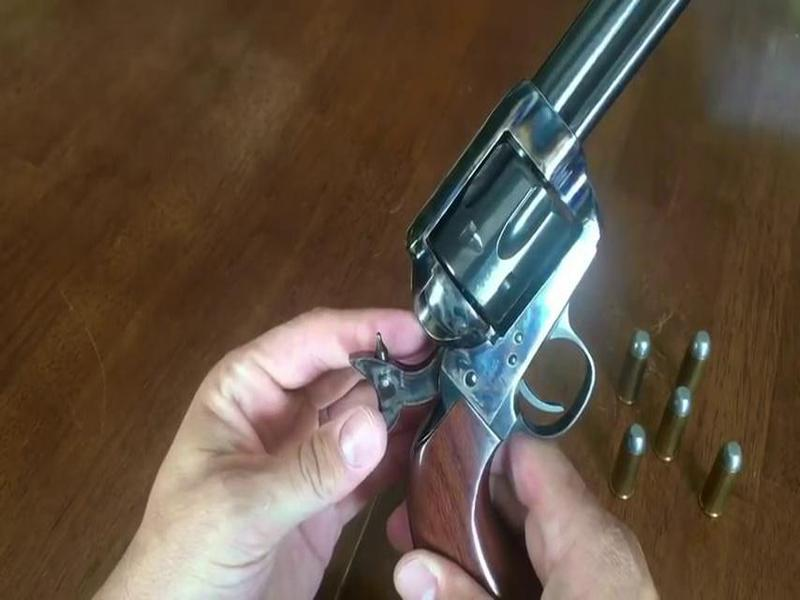Revolver: (350, 3, 719, 579)
